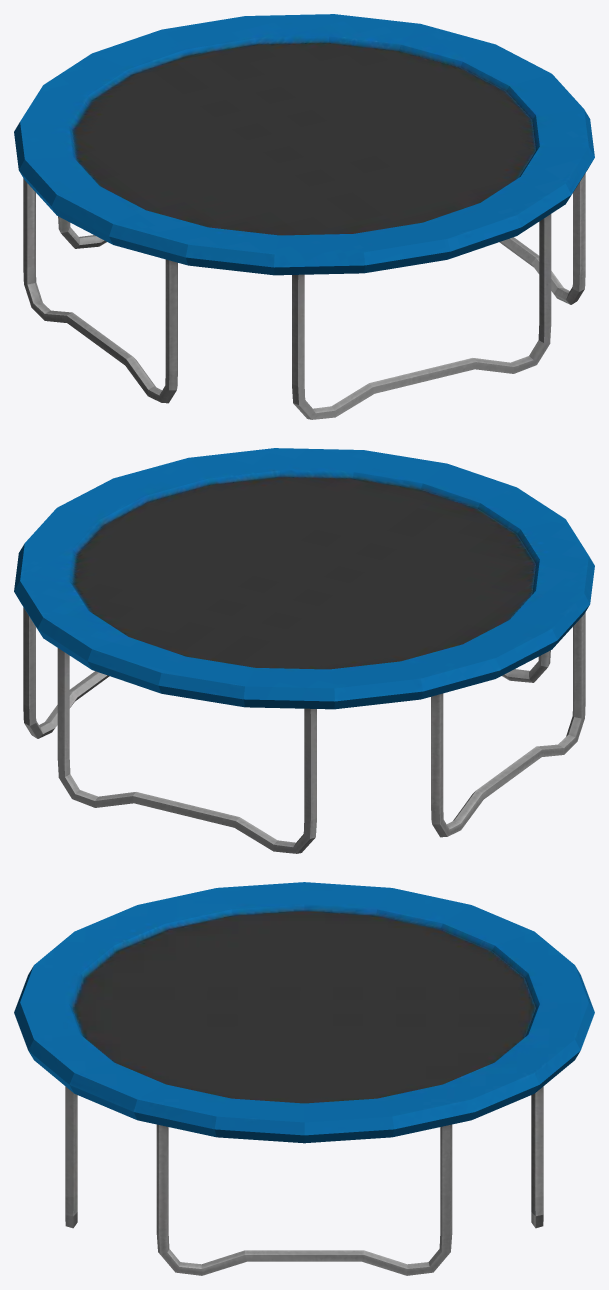
File: 44njxNdC0gt.glb
3 views of the same model, one above another, from view 1: azimuth 30°, elevation 25°; view 2: azimuth 150°, elevation 25°; view 3: azimuth 270°, elevation 25° (orthographic).
Visible parts, largest first — view 1: Trampoline_Mesh; view 2: Trampoline_Mesh; view 3: Trampoline_Mesh.
Part boxes in pixels (x1,y1,x2,y2): Trampoline_Mesh: (14,14,594,419); Trampoline_Mesh: (14,448,594,853); Trampoline_Mesh: (14,882,594,1275).
Bounding box in the file's own units: 3.01 × 1 × 3.01.
Materials: 1 (1 with a texture image).
